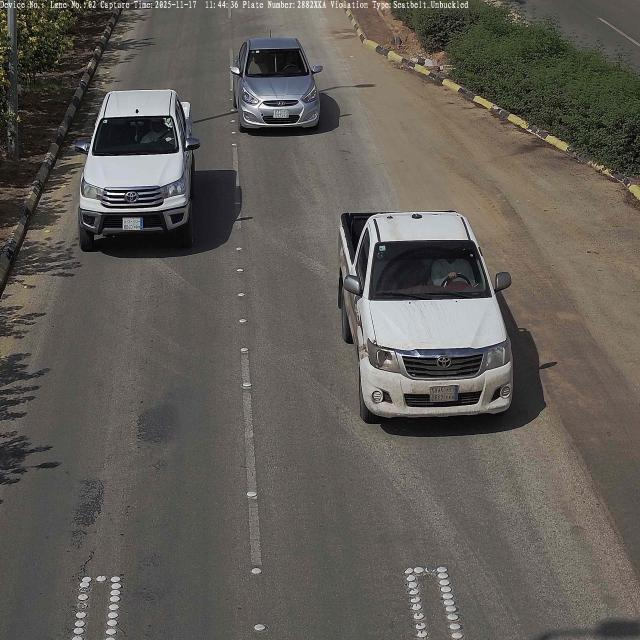person_with_seatbelt: (138, 117, 174, 146)
person_without_seatbelt: (430, 250, 477, 290)
